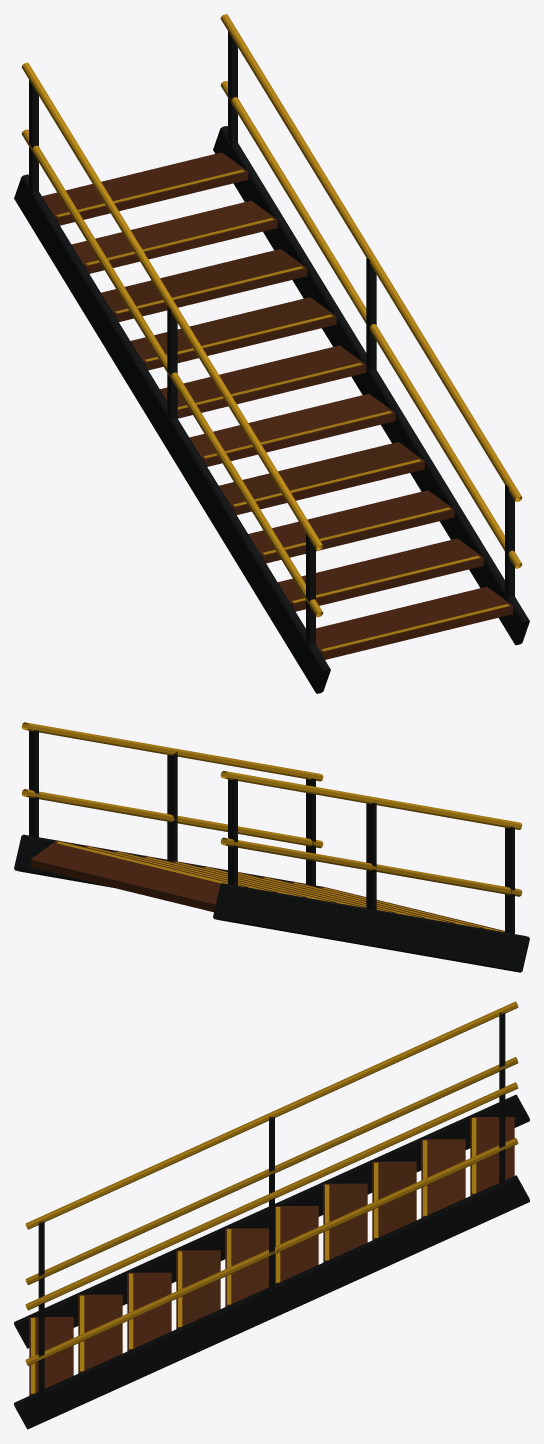
File: kit_catwalk_stairs.glb
3 renders of one model, top to bottom at view 1: azimuth 30°, elevation 25°; view 2: azimuth 150°, elevation 25°; view 3: azimuth 270°, elevation 25°, orthographic. The views are drawn at different scales.
Visible parts, largest first — view 1: Mesh; view 2: Mesh; view 3: Mesh.
Boxes of the visible parts, x1,y1,x2,y2 form: Mesh: (14, 14, 529, 693); Mesh: (14, 722, 529, 972); Mesh: (14, 1001, 529, 1429).
Bounding box in the file's own units: 1.62 × 3.11 × 4.21.
